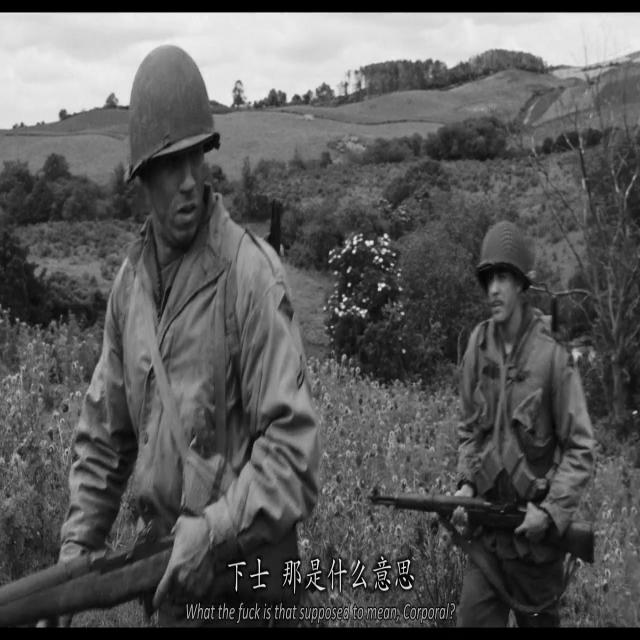Short-Gun: (0, 439, 335, 640), (354, 379, 606, 640)
